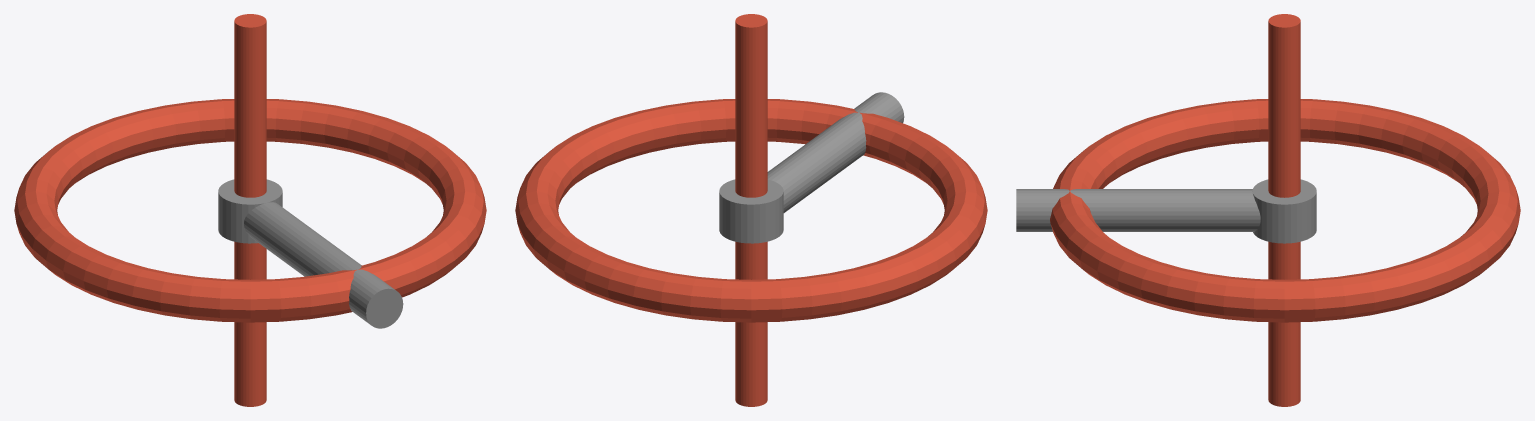
Rendered from ValveWheel.fbx.
3 views of the same model, side by side, from view 1: azimuth 30°, elevation 25°; view 2: azimuth 150°, elevation 25°; view 3: azimuth 270°, elevation 25° (orthographic).
Parts seen in each view (by area): view 1: ValveWheel_Ring, ValveWheel_Spoke_0, ValveWheel_Pipe, ValveWheel_Hub; view 2: ValveWheel_Ring, ValveWheel_Spoke_0, ValveWheel_Pipe, ValveWheel_Hub, ValveWheel_Spoke_90; view 3: ValveWheel_Ring, ValveWheel_Spoke_0, ValveWheel_Pipe, ValveWheel_Hub.
Part boxes in pixels (box(x1,y1,x2,y2)): ValveWheel_Ring: box(14, 99, 486, 322); ValveWheel_Spoke_0: box(234, 14, 266, 406); ValveWheel_Pipe: box(244, 202, 403, 328); ValveWheel_Hub: box(218, 179, 282, 243); ValveWheel_Ring: box(515, 99, 987, 322); ValveWheel_Spoke_0: box(735, 14, 767, 406); ValveWheel_Pipe: box(767, 92, 904, 212); ValveWheel_Hub: box(719, 179, 783, 243); ValveWheel_Spoke_90: box(736, 14, 766, 406); ValveWheel_Ring: box(1050, 99, 1520, 322); ValveWheel_Spoke_0: box(1268, 14, 1300, 406); ValveWheel_Pipe: box(1016, 189, 1260, 231); ValveWheel_Hub: box(1252, 179, 1316, 243).
Size of the model in its own units: 0.88 by 0.78 by 0.94.
